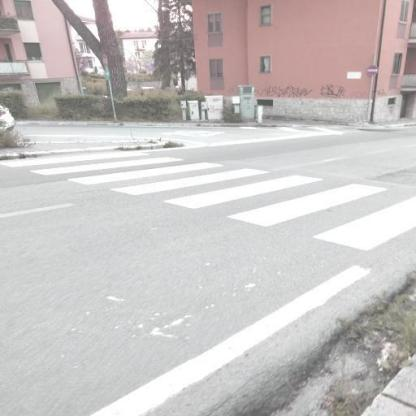crosswalk: (103, 166, 328, 214)
